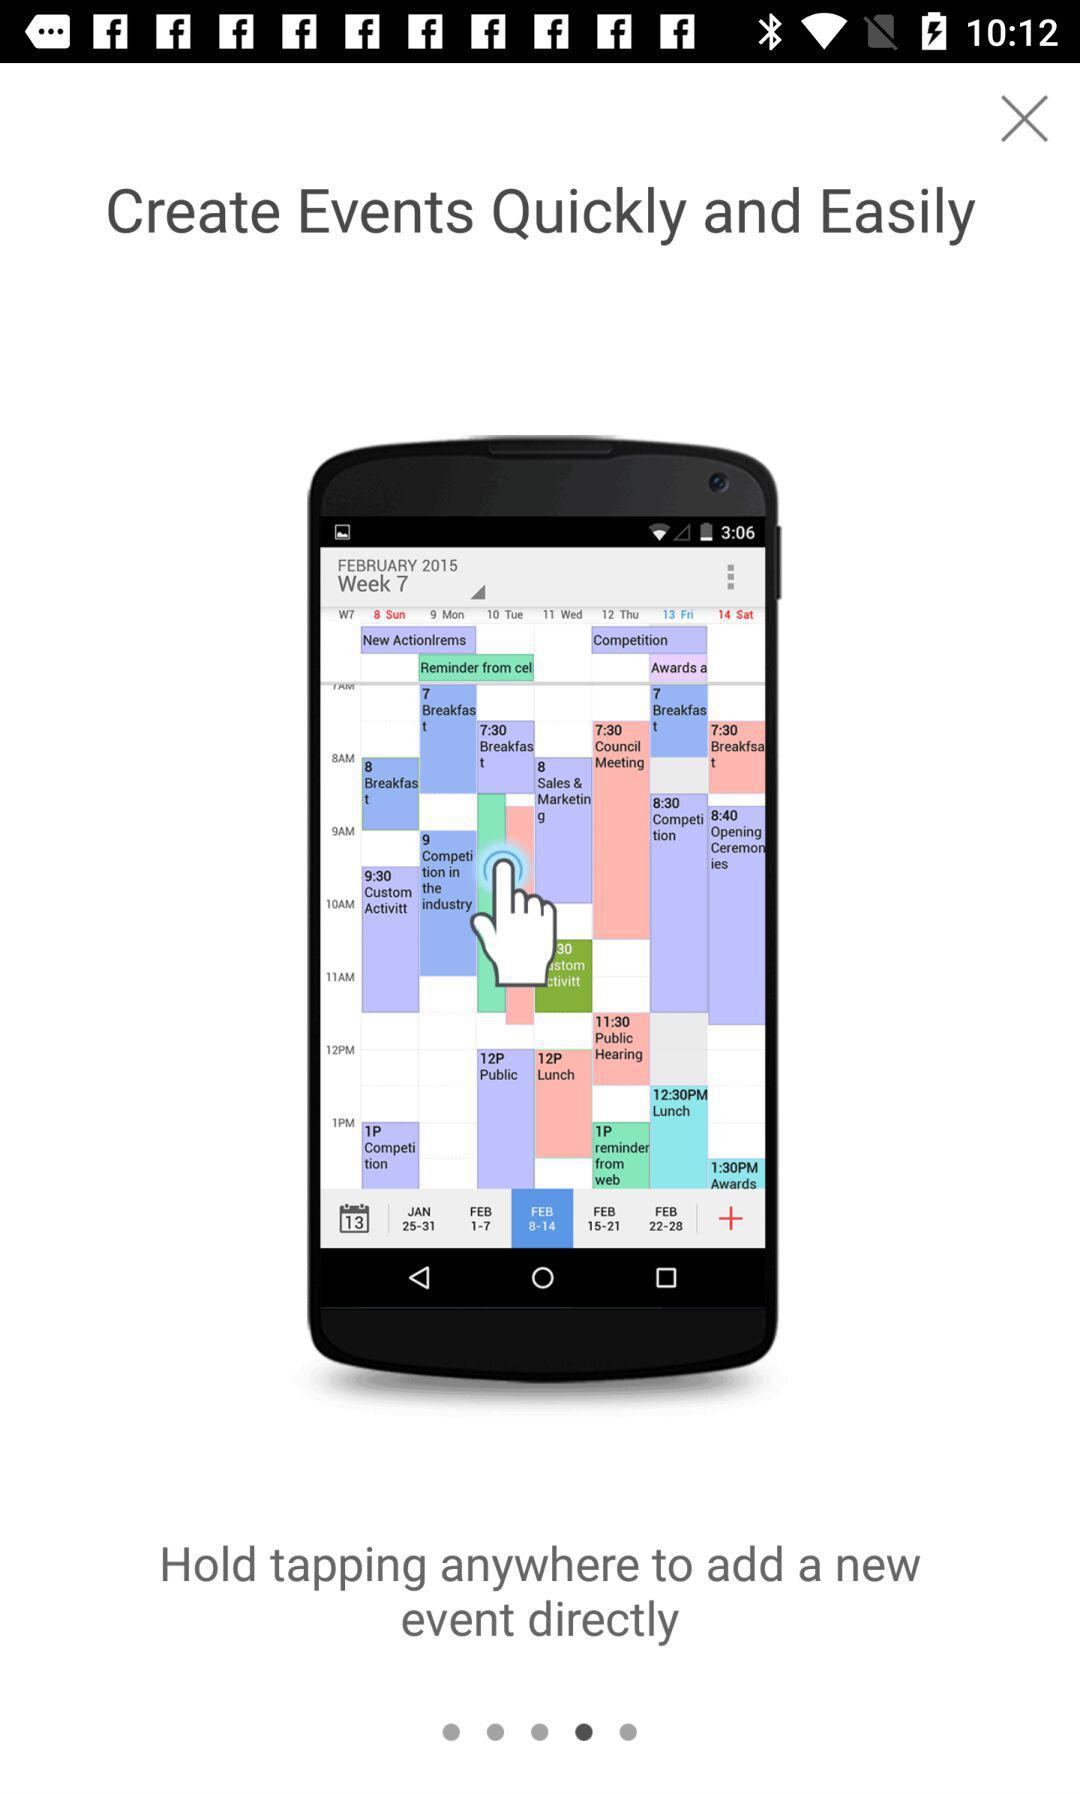Icon: (1001, 95, 1049, 145)
Image: (307, 434, 783, 1384)
PageIndicator: (441, 1721, 639, 1743)
Text: (161, 1544, 922, 1648), (108, 186, 978, 249)
UpperTaskBar: (1, 1, 1080, 64)
